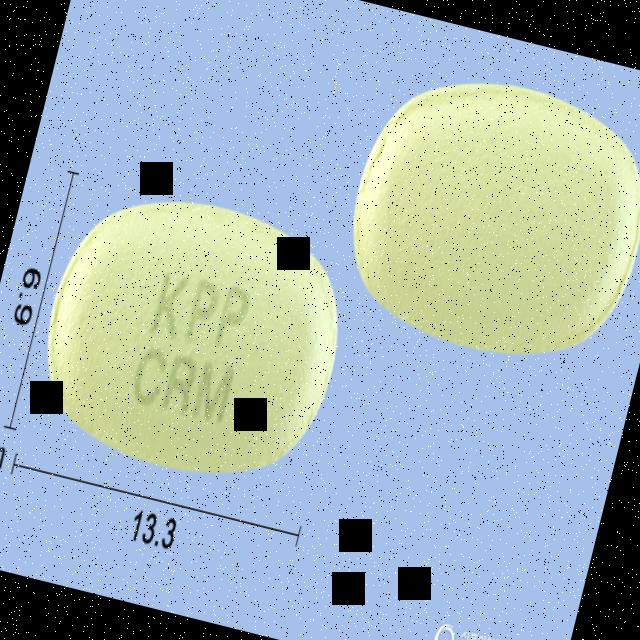Crema: (18, 173, 364, 500)
